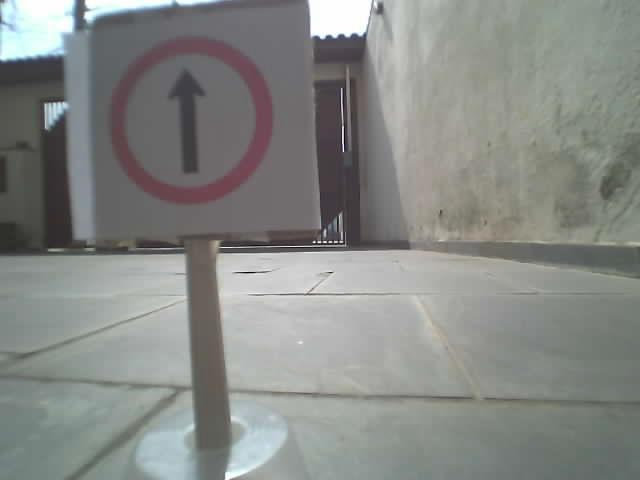R-26_frente: (109, 36, 273, 204)
